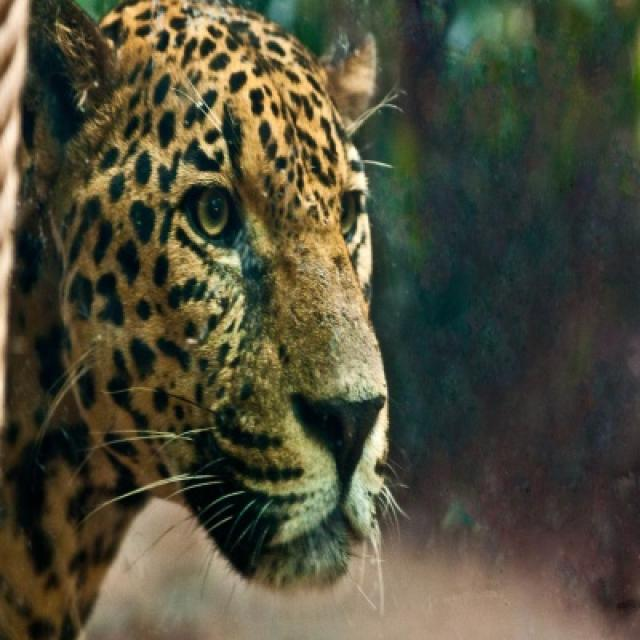not_pig: (0, 0, 411, 638)
